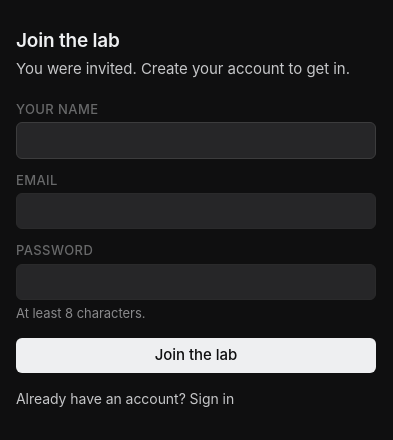
says the server could not be reached rather than failing silently
Type "Bo" into the field labelled "Your name" at x=196, y=141, box [16,122,376,159]
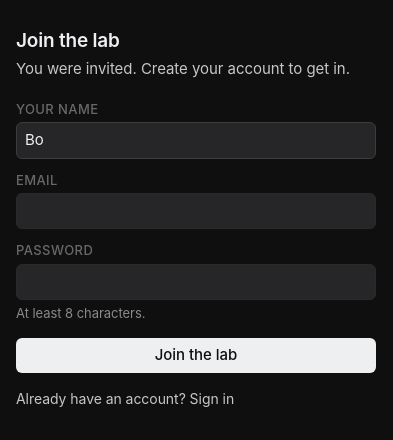
Type "bo@lab.example" into the field labelled "Email" at x=196, y=211, box [16,193,376,229]
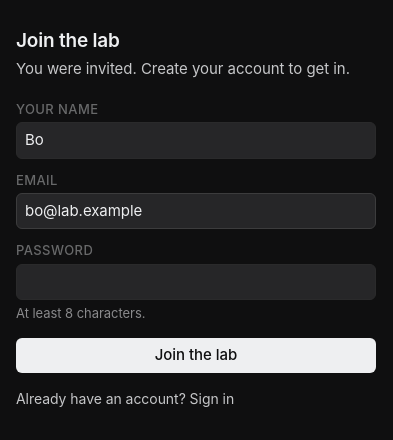
Type "a good long password" into the password field labelled "Password At least 8 characters." at x=196, y=282, box [16,264,376,300]
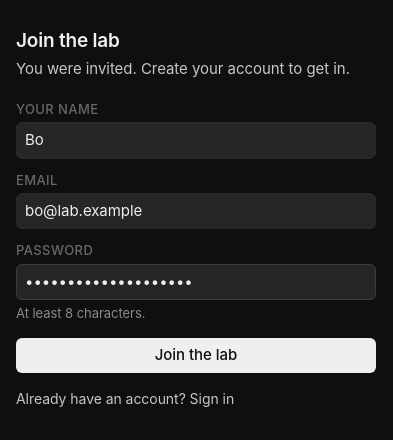
Click the button "Join the lab" at x=196, y=356, box [16,338,376,373]
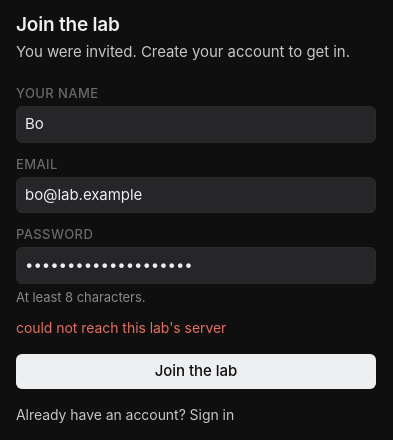
Expected: the text "could not reach this lab's server" is shown, [16,319,226,336]
